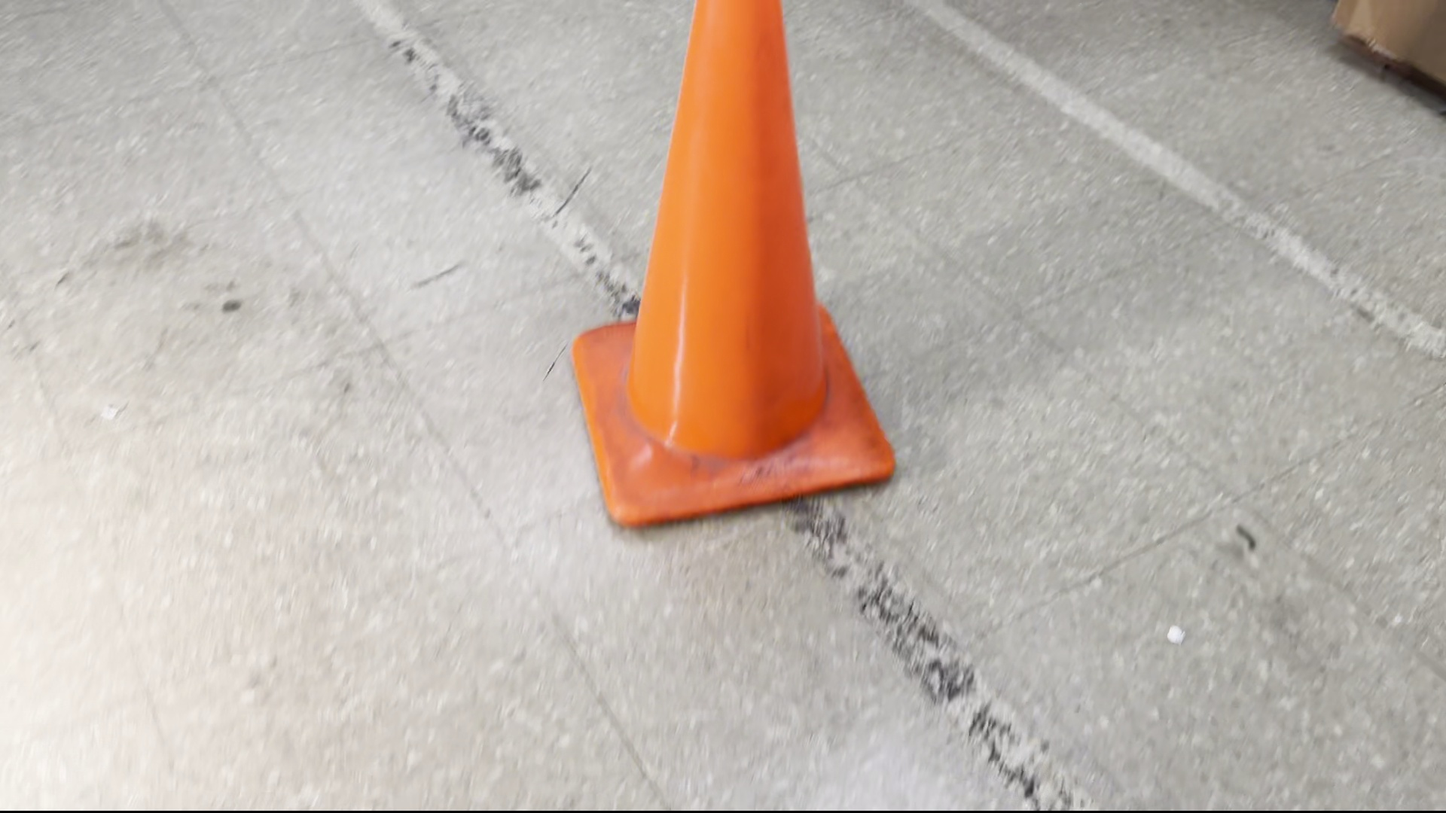traffic_cone: (569, 0, 897, 529)
